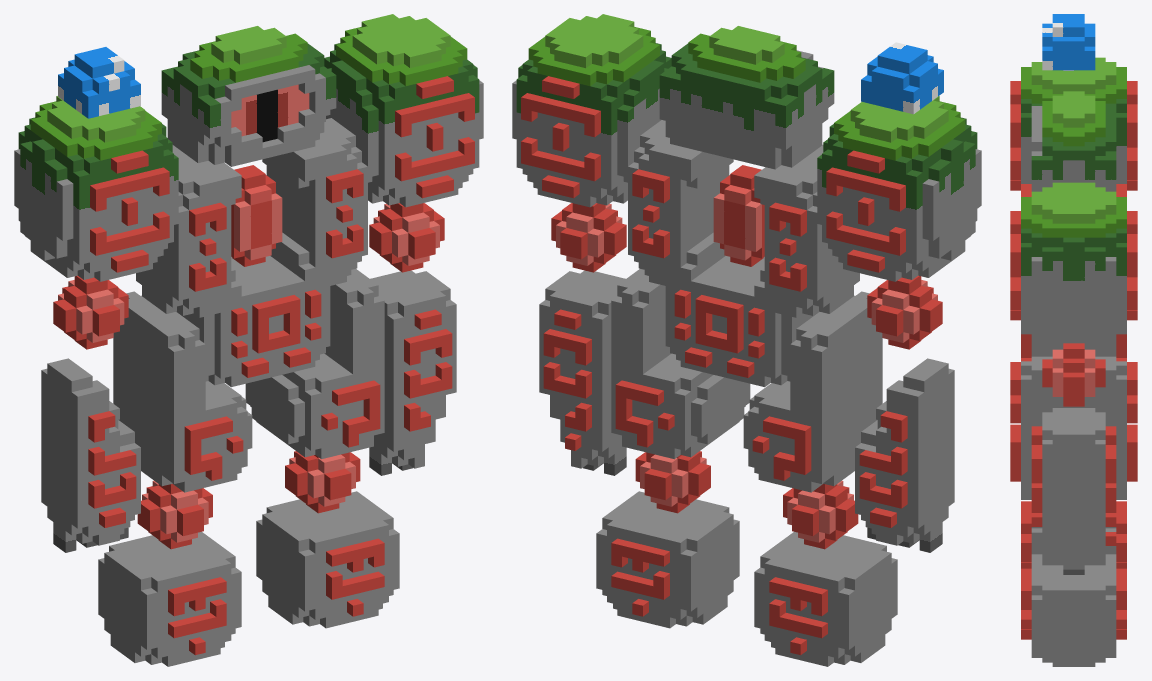
File: stone_golem_red.gltf
3 views of the same model, side by side, from view 1: azimuth 30°, elevation 25°; view 2: azimuth 150°, elevation 25°; view 3: azimuth 270°, elevation 25° (orthographic). The views are drawn at different scales.
Parts seen in each view (by area): view 1: stone_golem_red-Mesh; view 2: stone_golem_red-Mesh; view 3: stone_golem_red-Mesh.
Boxes of the visible parts, x1,y1,x2,y2 form: stone_golem_red-Mesh: [14, 14, 483, 666]; stone_golem_red-Mesh: [512, 14, 981, 666]; stone_golem_red-Mesh: [1010, 14, 1137, 666].
Bounding box in the file's own units: 40 × 55 × 12.
Materials: 1 (1 with a texture image).
